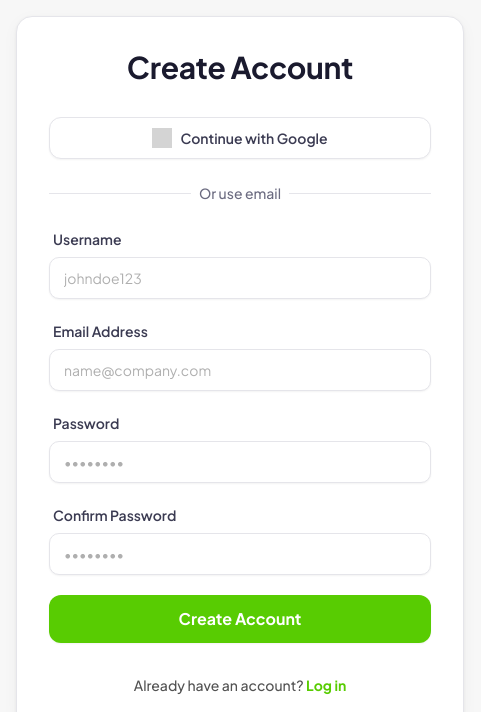
it: SignupForm › validates password match
The image size is (481, 712).
Type "testuser" into the field labelled "Username" at (240, 278), box [49,257,431,299]
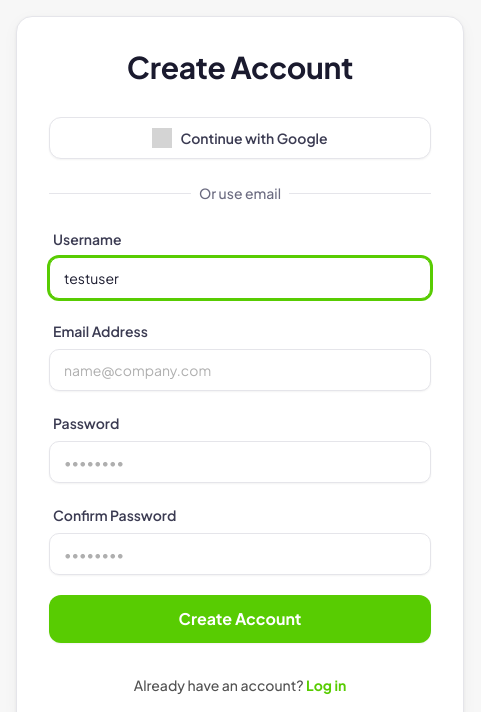
Type "test@example.com" into the field labelled "Email Address" at (240, 370), box [49,349,431,391]
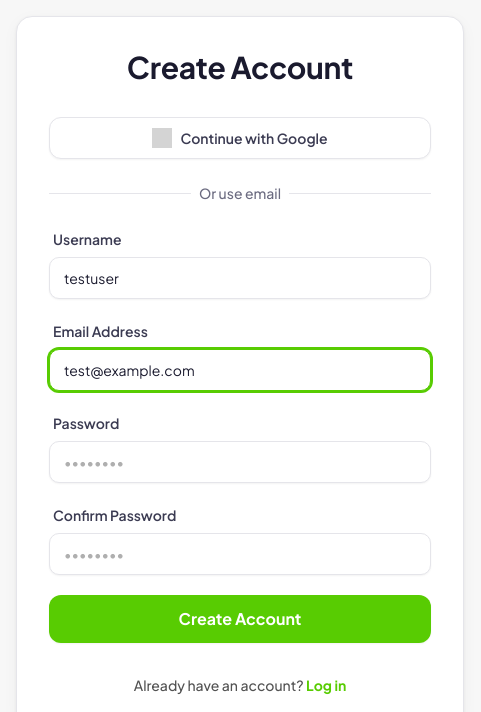
Type "StrongPass@123" into the password field labelled "Password" at (240, 462), box [49,441,431,483]
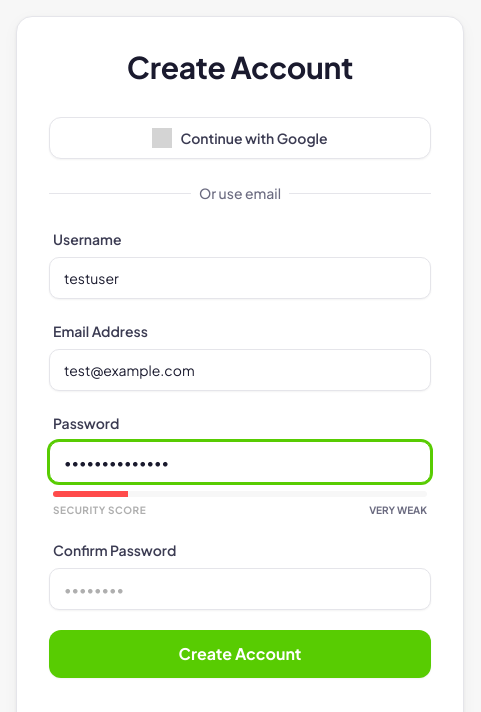
Type "different" into the password field labelled "Confirm Password" at (240, 589), box [49,568,431,610]
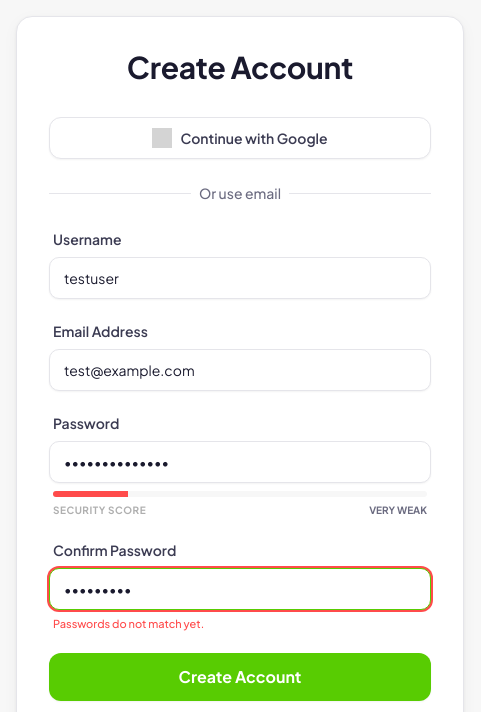
Click the button "Create Account" at (240, 676), box [49,652,431,700]
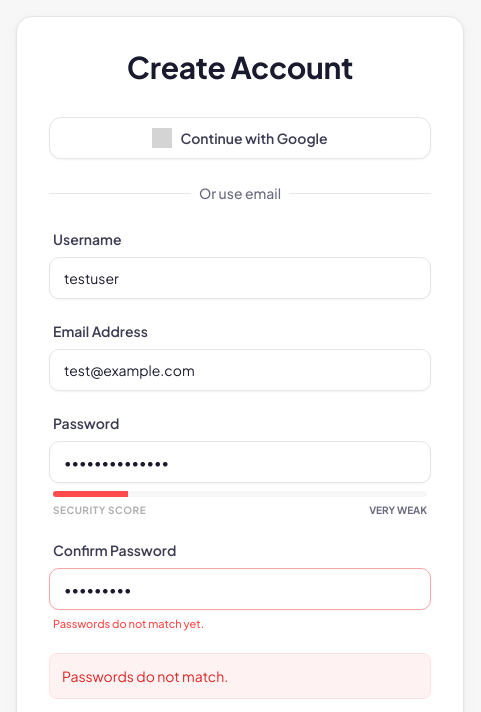
Result: the text "Passwords do not match." is shown at [49,652,431,698]
